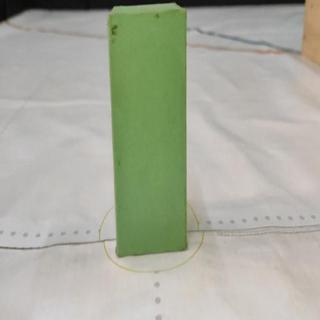greenbox: (108, 5, 188, 262)
